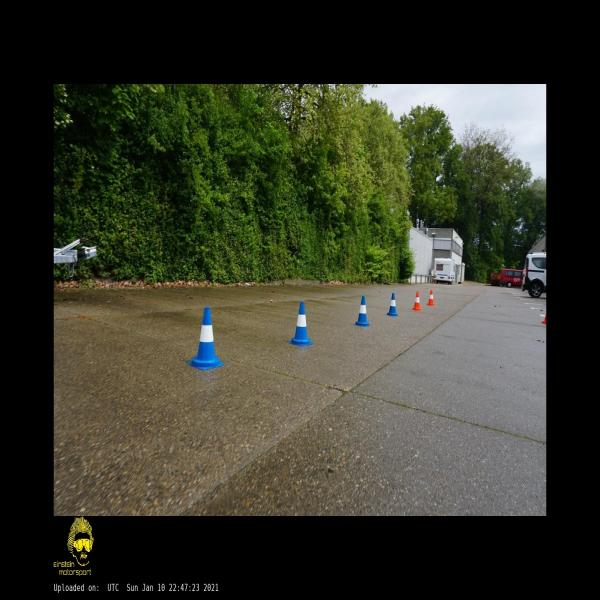blue_cone: (188, 307, 224, 370), (289, 302, 314, 346), (355, 296, 370, 326), (386, 294, 398, 316)
orange_cone: (412, 292, 421, 311), (427, 290, 434, 305)
